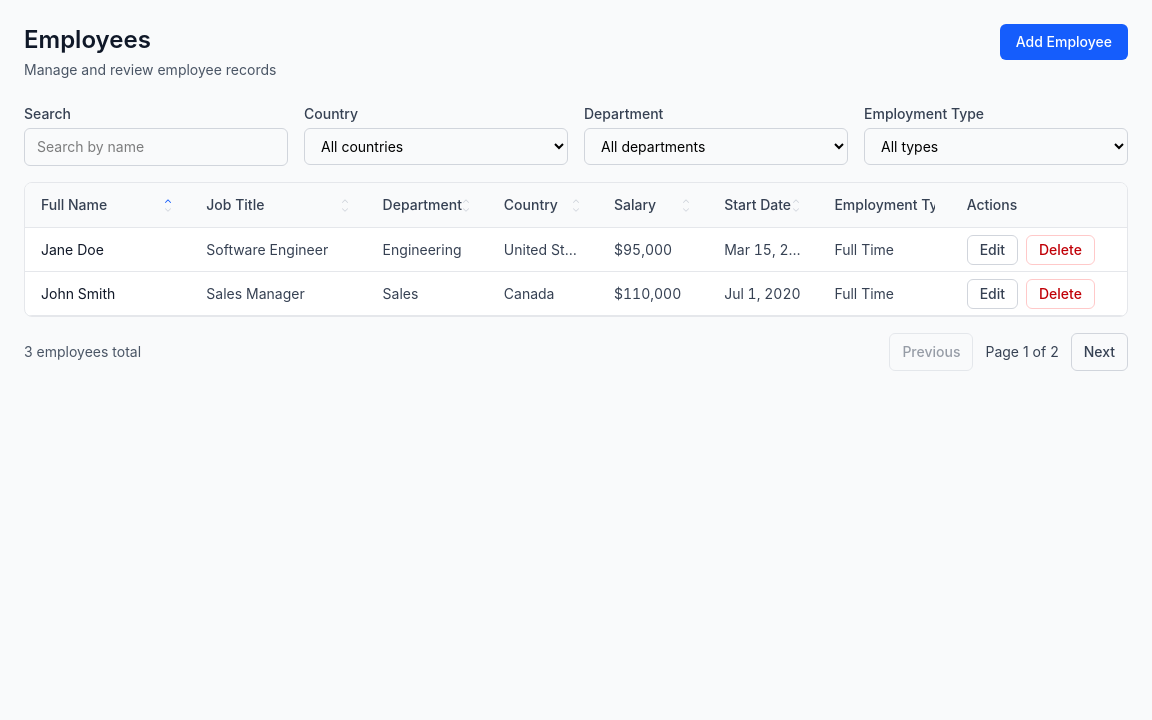
Scenario: EmployeeList › shows confirmation dialog and deletes employee on confirm
The width and height of the screenshot is (1152, 720).
Check: the cell "Jane Doe" is shown, box x1=25 y1=228 x2=190 y2=272
What coordinates should you click on to do the following:
click the button "Delete" in the row of "Jane Doe"
I would click on:
 (1060, 250)
Its box is x1=1026 y1=234 x2=1095 y2=264.
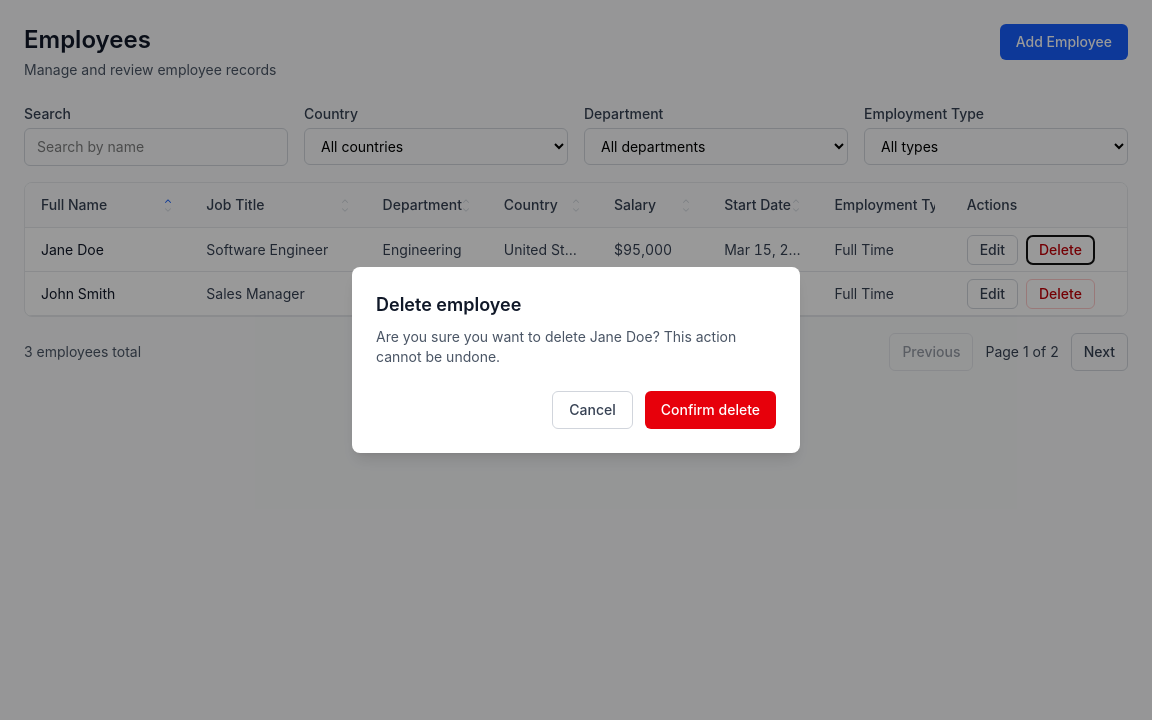
What coordinates should you click on to do the following:
click the button "Confirm delete"
I would click on:
 (710, 410)
Its box is x1=645 y1=391 x2=776 y2=429.
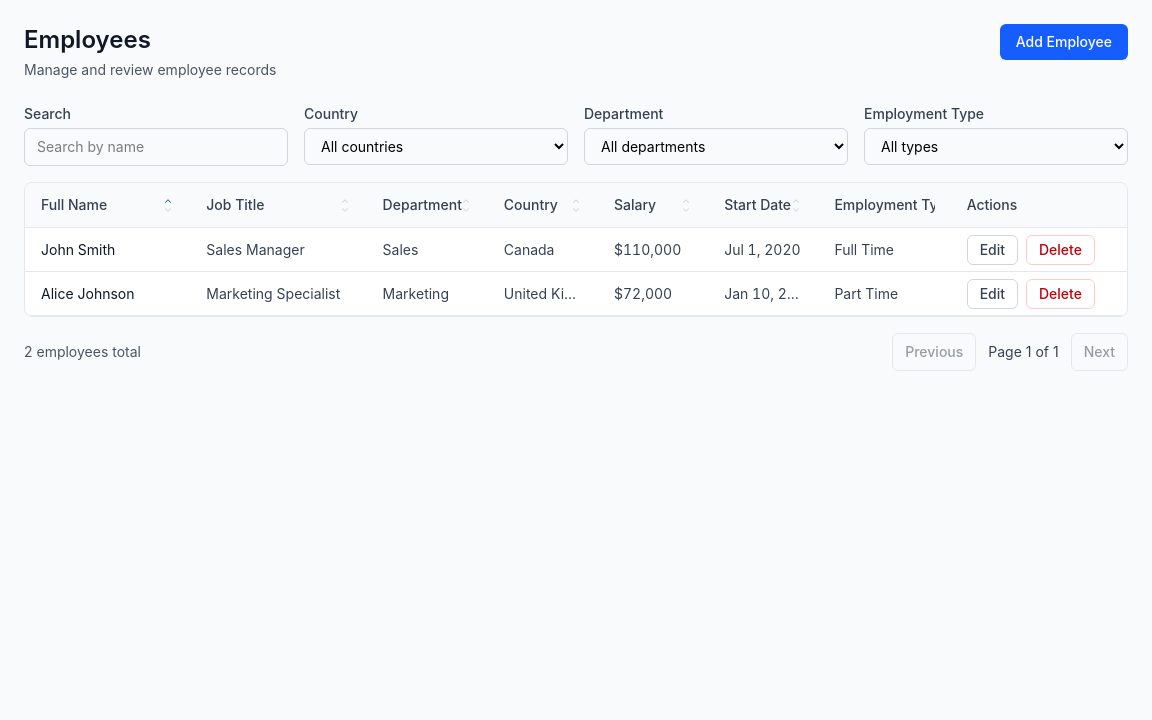
Check: the text "Jane Doe" is gone
Check: the dialog is gone
